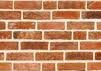brick: (44, 30, 71, 40), (13, 1, 42, 9), (58, 1, 87, 9), (7, 21, 36, 29), (13, 31, 42, 39), (20, 42, 49, 50), (5, 53, 33, 61), (57, 63, 85, 71), (36, 52, 63, 60), (66, 52, 93, 60), (12, 63, 41, 70), (39, 22, 64, 30), (50, 42, 78, 49), (23, 11, 50, 18), (53, 10, 80, 17), (67, 22, 94, 29), (81, 43, 101, 51), (1, 42, 18, 51), (1, 11, 21, 18), (88, 1, 101, 11), (74, 31, 87, 40), (82, 12, 101, 18), (43, 1, 57, 9), (88, 32, 101, 40), (87, 63, 100, 71), (1, 1, 13, 9), (43, 64, 55, 71), (1, 31, 12, 38), (1, 63, 11, 70)
